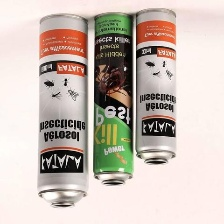aerosol_cans: (33, 11, 91, 211), (90, 10, 137, 188), (134, 5, 179, 167)
